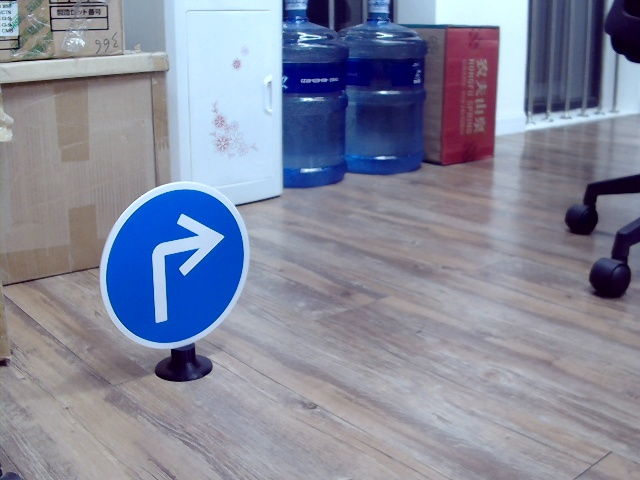turn_right: (143, 215, 219, 324)
